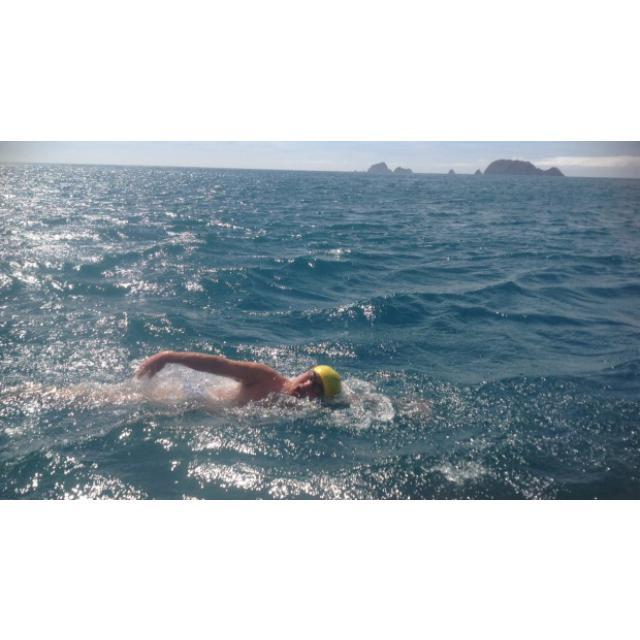human: (111, 349, 351, 405)
